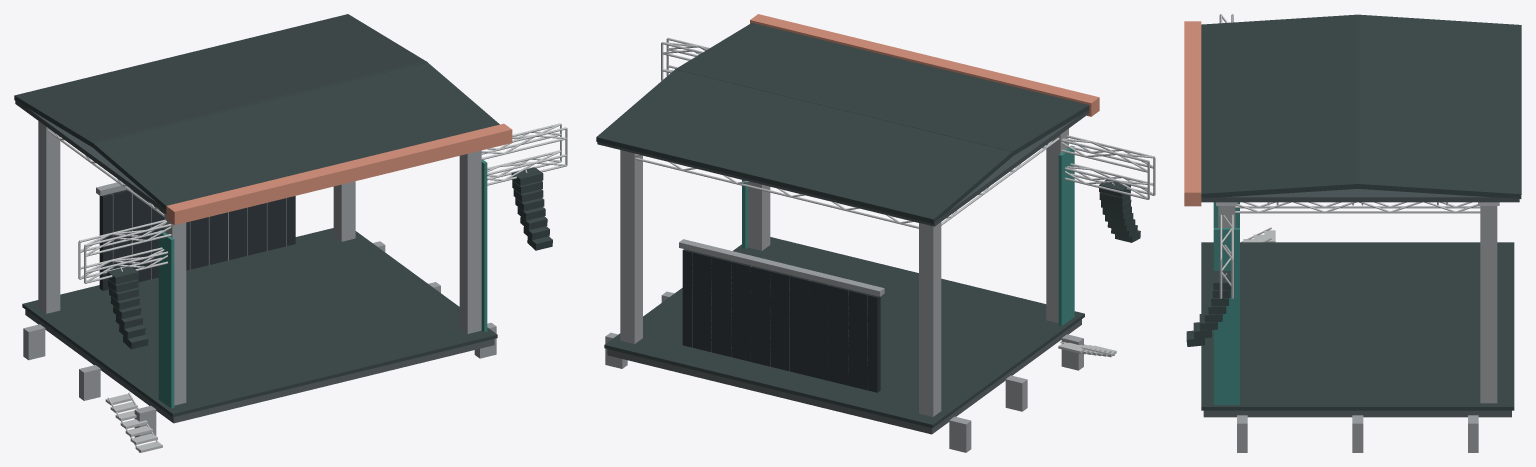
The model's file is apex-5040-massing.glb.
3 views of the same model, side by side, from view 1: azimuth 30°, elevation 25°; view 2: azimuth 150°, elevation 25°; view 3: azimuth 270°, elevation 25° (orthographic). The views are drawn at different scales.
Parts seen in each view (by area): view 1: world; view 2: world; view 3: world.
Part boxes in pixels (left/top/right/bottom): world: left=14, top=14, right=567, bottom=452; world: left=596, top=14, right=1155, bottom=452; world: left=1184, top=14, right=1521, bottom=452.
Size of the model in its own units: 75.32 by 37.7 by 43.75.
